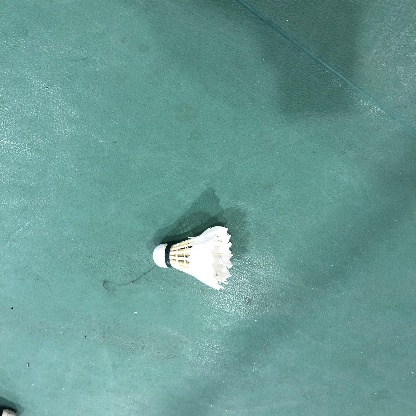ball_single: (153, 226, 233, 290)
